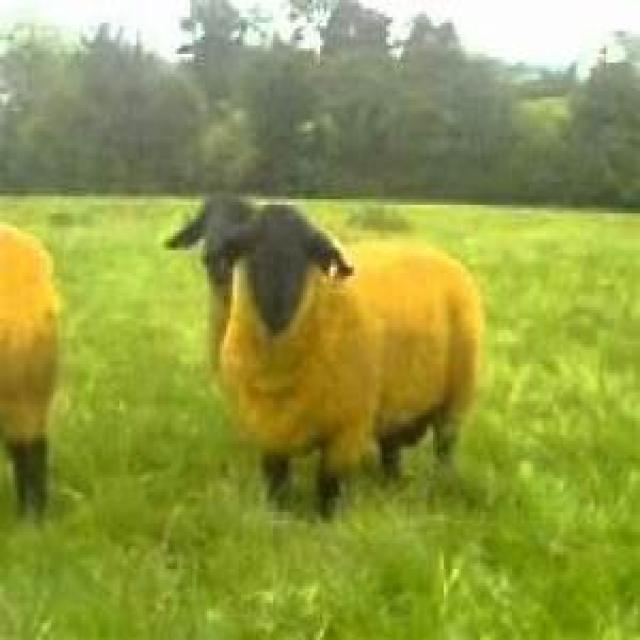animal: (162, 190, 484, 520), (0, 214, 62, 526)
